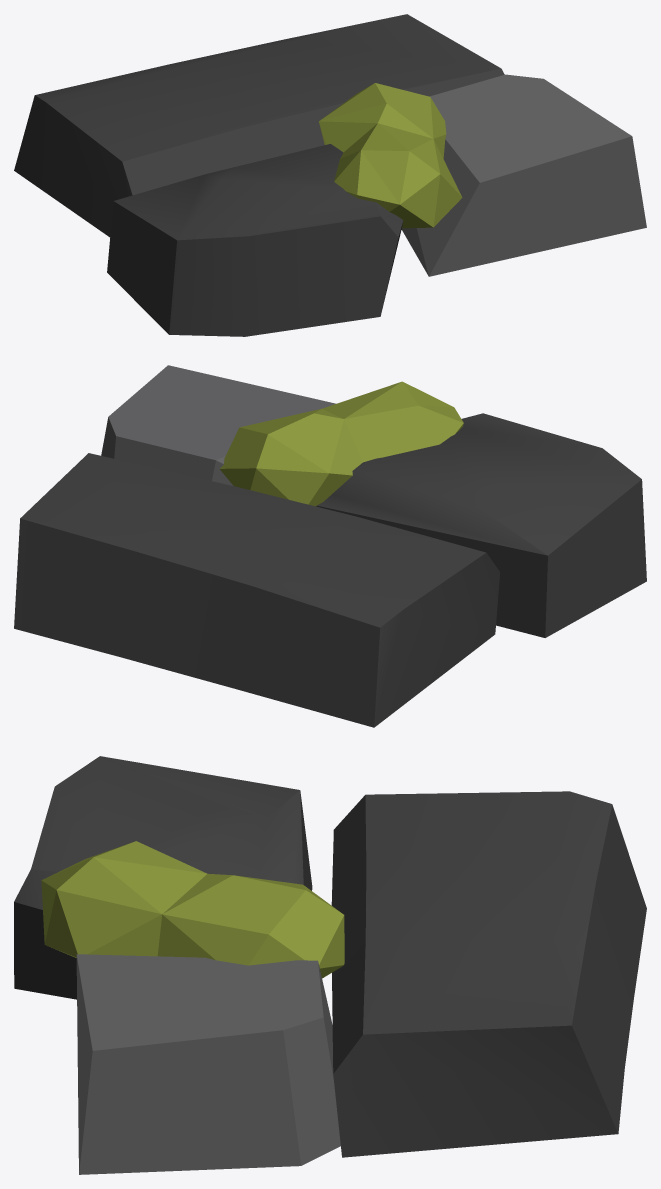
File: ea01_env_road_cobble_moss_02b_pre_lev1.glb
The picture shows the model from 3 angles, top to bottom: view 1: azimuth 30°, elevation 25°; view 2: azimuth 150°, elevation 25°; view 3: azimuth 270°, elevation 25°; orthographic projection. The views are drawn at different scales.
Visible parts, largest first — view 1: ea01_env_road_cobble_moss_02b_pre_lev1; view 2: ea01_env_road_cobble_moss_02b_pre_lev1; view 3: ea01_env_road_cobble_moss_02b_pre_lev1.
Part boxes in pixels (x1,y1,x2,y2): ea01_env_road_cobble_moss_02b_pre_lev1: (14,14,646,336); ea01_env_road_cobble_moss_02b_pre_lev1: (14,365,646,727); ea01_env_road_cobble_moss_02b_pre_lev1: (14,756,646,1174).
Size of the model in its own units: 1.21 by 0.3213 by 1.08.
1 material, 1 textured.
